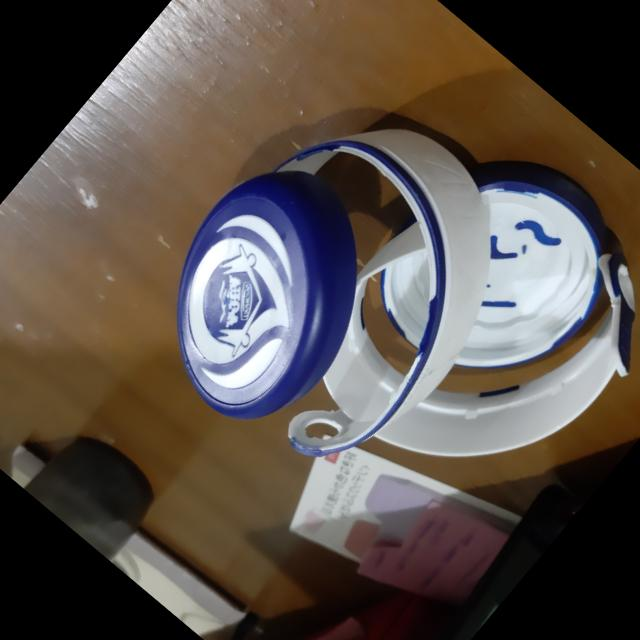Kardus: (91, 0, 640, 622)
